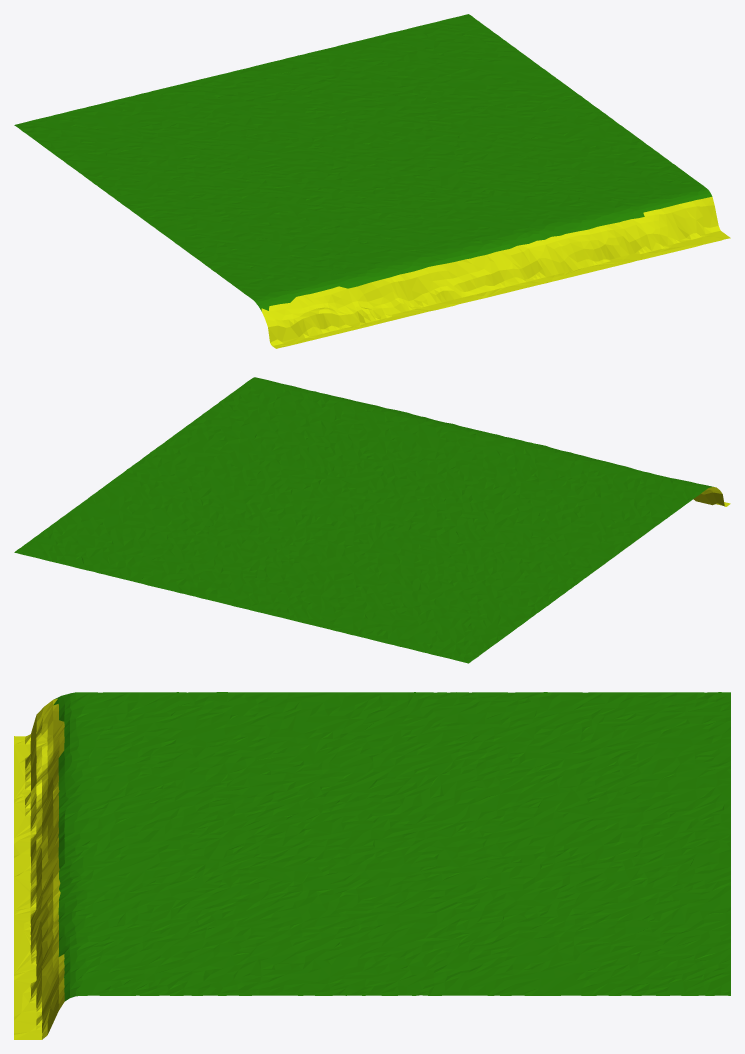
3 renders of one model, top to bottom at view 1: azimuth 30°, elevation 25°; view 2: azimuth 150°, elevation 25°; view 3: azimuth 270°, elevation 25°, orthographic. The views are drawn at different scales.
Visible parts, largest first — view 1: TerrainVeryHigh.015; view 2: TerrainVeryHigh.015; view 3: TerrainVeryHigh.015.
Boxes of the visible parts, bbox=[...] form: TerrainVeryHigh.015: bbox=[14, 14, 730, 348]; TerrainVeryHigh.015: bbox=[14, 377, 730, 663]; TerrainVeryHigh.015: bbox=[14, 692, 730, 1039].
Size of the model in its own units: 1251 by 1249 by 86.36.
